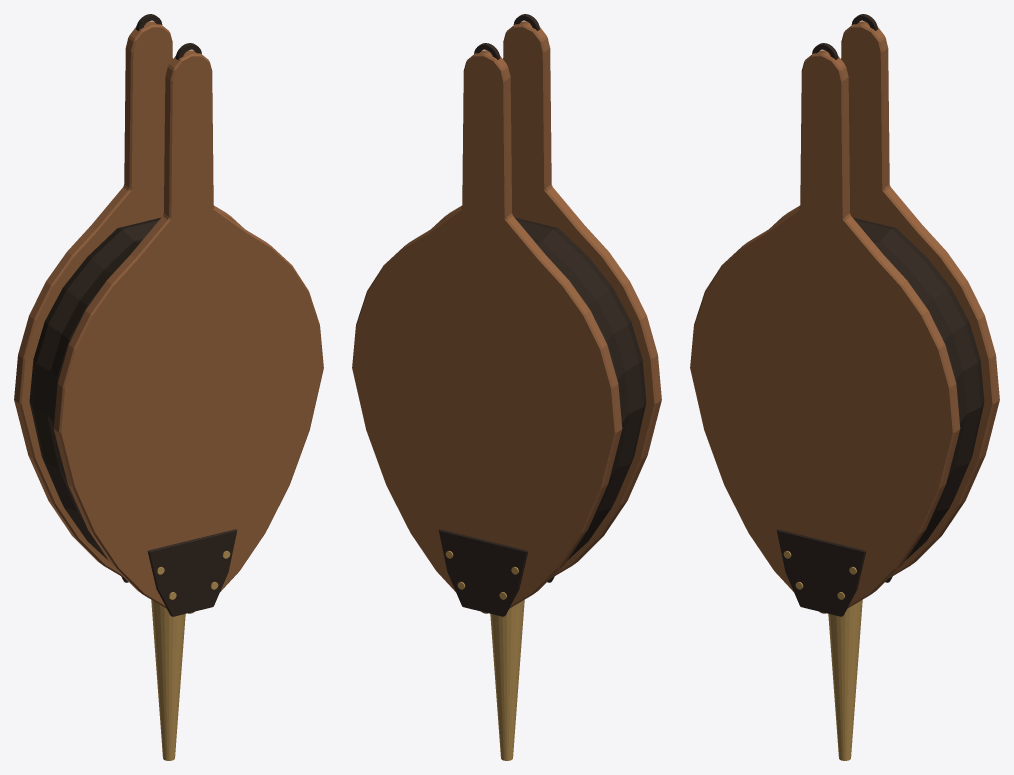
Rendered from full.glb.
3 renders of one model, left to right at view 1: azimuth 30°, elevation 25°; view 2: azimuth 150°, elevation 25°; view 3: azimuth 330°, elevation 25°, orthographic.
Parts seen in each view (by area): view 1: Wood board and handle -0.023, Wood board and handle 0.023, Folded leather gusset, Nozzle end leather cover -0.027, Long tapered open brass nozzle; view 2: Wood board and handle 0.023, Wood board and handle -0.023, Folded leather gusset, Nozzle end leather cover 0.027, Long tapered open brass nozzle; view 3: Wood board and handle -0.023, Wood board and handle 0.023, Folded leather gusset, Nozzle end leather cover -0.027, Long tapered open brass nozzle.
Boxes of the visible parts, x1,y1,x2,y2 form: Wood board and handle -0.023: (53, 50, 323, 613); Wood board and handle 0.023: (14, 21, 244, 578); Folded leather gusset: (29, 217, 161, 560); Nozzle end leather cover -0.027: (147, 529, 237, 616); Long tapered open brass nozzle: (151, 600, 185, 760); Wood board and handle 0.023: (352, 50, 622, 613); Wood board and handle -0.023: (431, 21, 661, 578); Folded leather gusset: (514, 217, 646, 560); Nozzle end leather cover 0.027: (438, 529, 528, 616); Long tapered open brass nozzle: (490, 600, 524, 760); Wood board and handle -0.023: (690, 50, 960, 613); Wood board and handle 0.023: (769, 21, 999, 578); Folded leather gusset: (852, 217, 984, 560); Nozzle end leather cover -0.027: (776, 529, 866, 616); Long tapered open brass nozzle: (828, 600, 862, 760).
Bounding box in the file's own units: 0.1778 × 0.467 × 0.0582.
